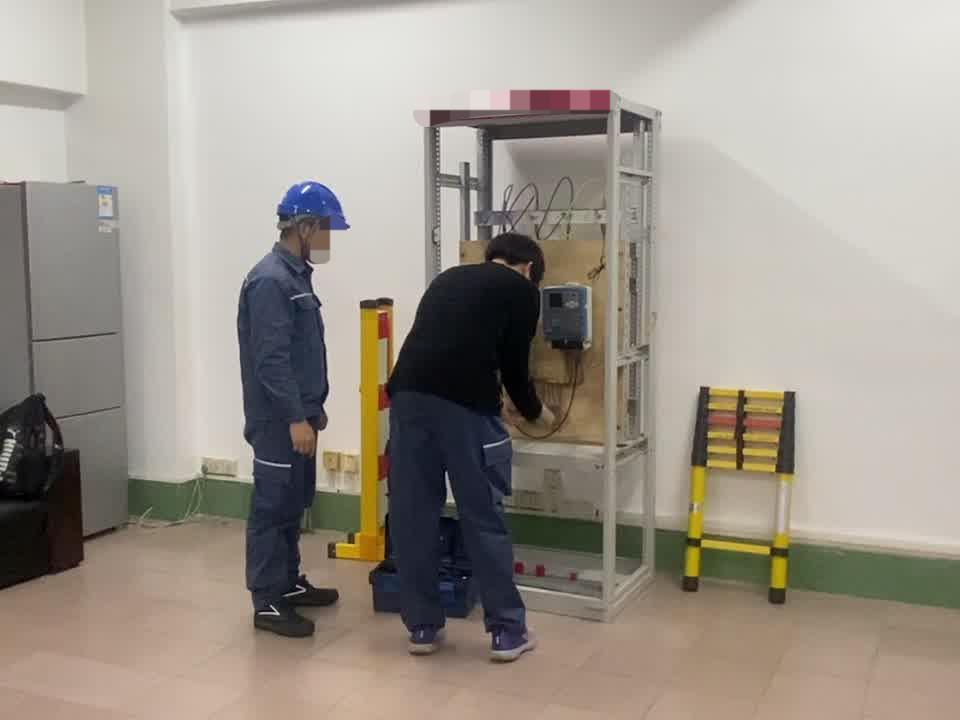halt: (276, 184, 353, 264)
inear: (292, 219, 321, 256)
unhalt: (484, 236, 550, 282)
